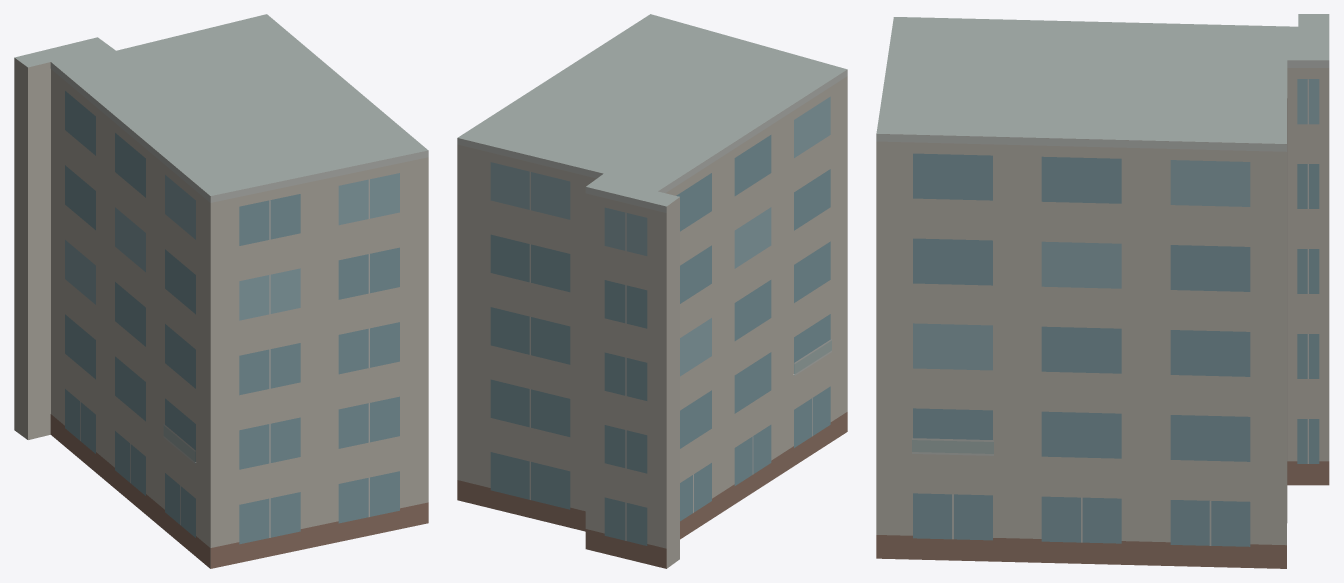
Rendered from survey-upis-32893634.glb.
The picture shows the model from 3 angles, left to right: view 1: azimuth 30°, elevation 25°; view 2: azimuth 150°, elevation 25°; view 3: azimuth 270°, elevation 25°; orthographic projection. The views are drawn at different scales.
Visible parts, largest first — view 1: survey-upis-32893634.tmp; view 2: survey-upis-32893634.tmp; view 3: survey-upis-32893634.tmp.
Part boxes in pixels (x1,y1,x2,y2): survey-upis-32893634.tmp: (14, 14, 428, 568); survey-upis-32893634.tmp: (457, 14, 847, 568); survey-upis-32893634.tmp: (876, 14, 1329, 568).
Size of the model in its own units: 8.78 by 13.35 by 12.92.
